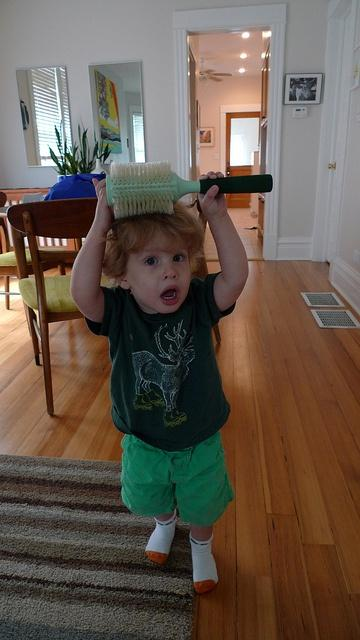Kursi: (6, 196, 109, 416)
